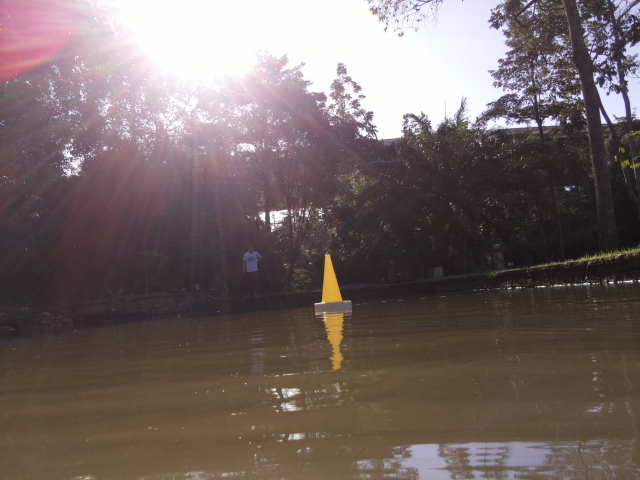checkpoint: (313, 253, 354, 315)
